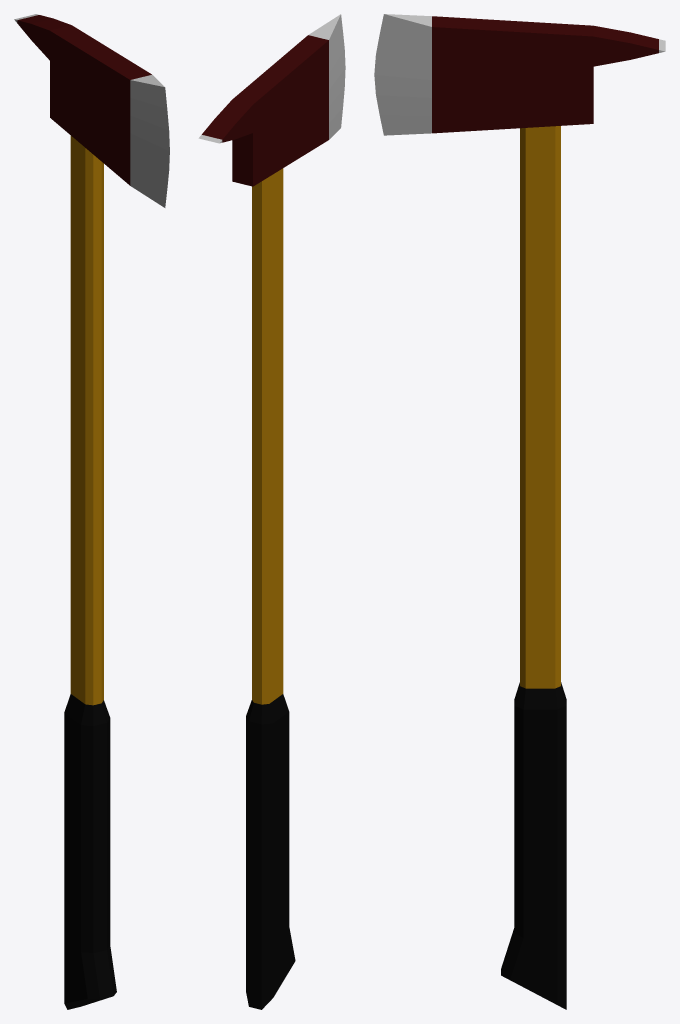
The model's file is Fire Axe.obj.
3 views of the same model, side by side, from view 1: azimuth 30°, elevation 25°; view 2: azimuth 150°, elevation 25°; view 3: azimuth 270°, elevation 25° (orthographic). The views are drawn at different scales.
Visible parts, largest first — view 1: Fire_Axe_Plane.010; view 2: Fire_Axe_Plane.010; view 3: Fire_Axe_Plane.010.
Boxes of the visible parts, x1=… form: Fire_Axe_Plane.010: x1=14, y1=14, x2=169, y2=1009; Fire_Axe_Plane.010: x1=198, y1=14, x2=345, y2=1009; Fire_Axe_Plane.010: x1=374, y1=14, x2=665, y2=1009.
Bounding box in the file's own units: 0.026 × 0.8439 × 0.2245.
